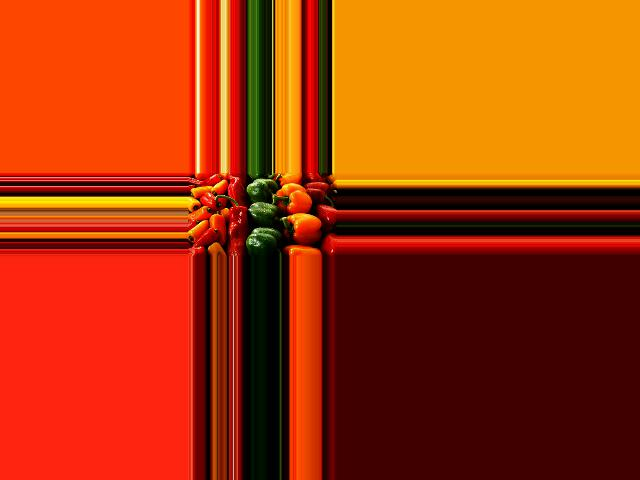bell_pepper: (192, 227, 219, 249)
